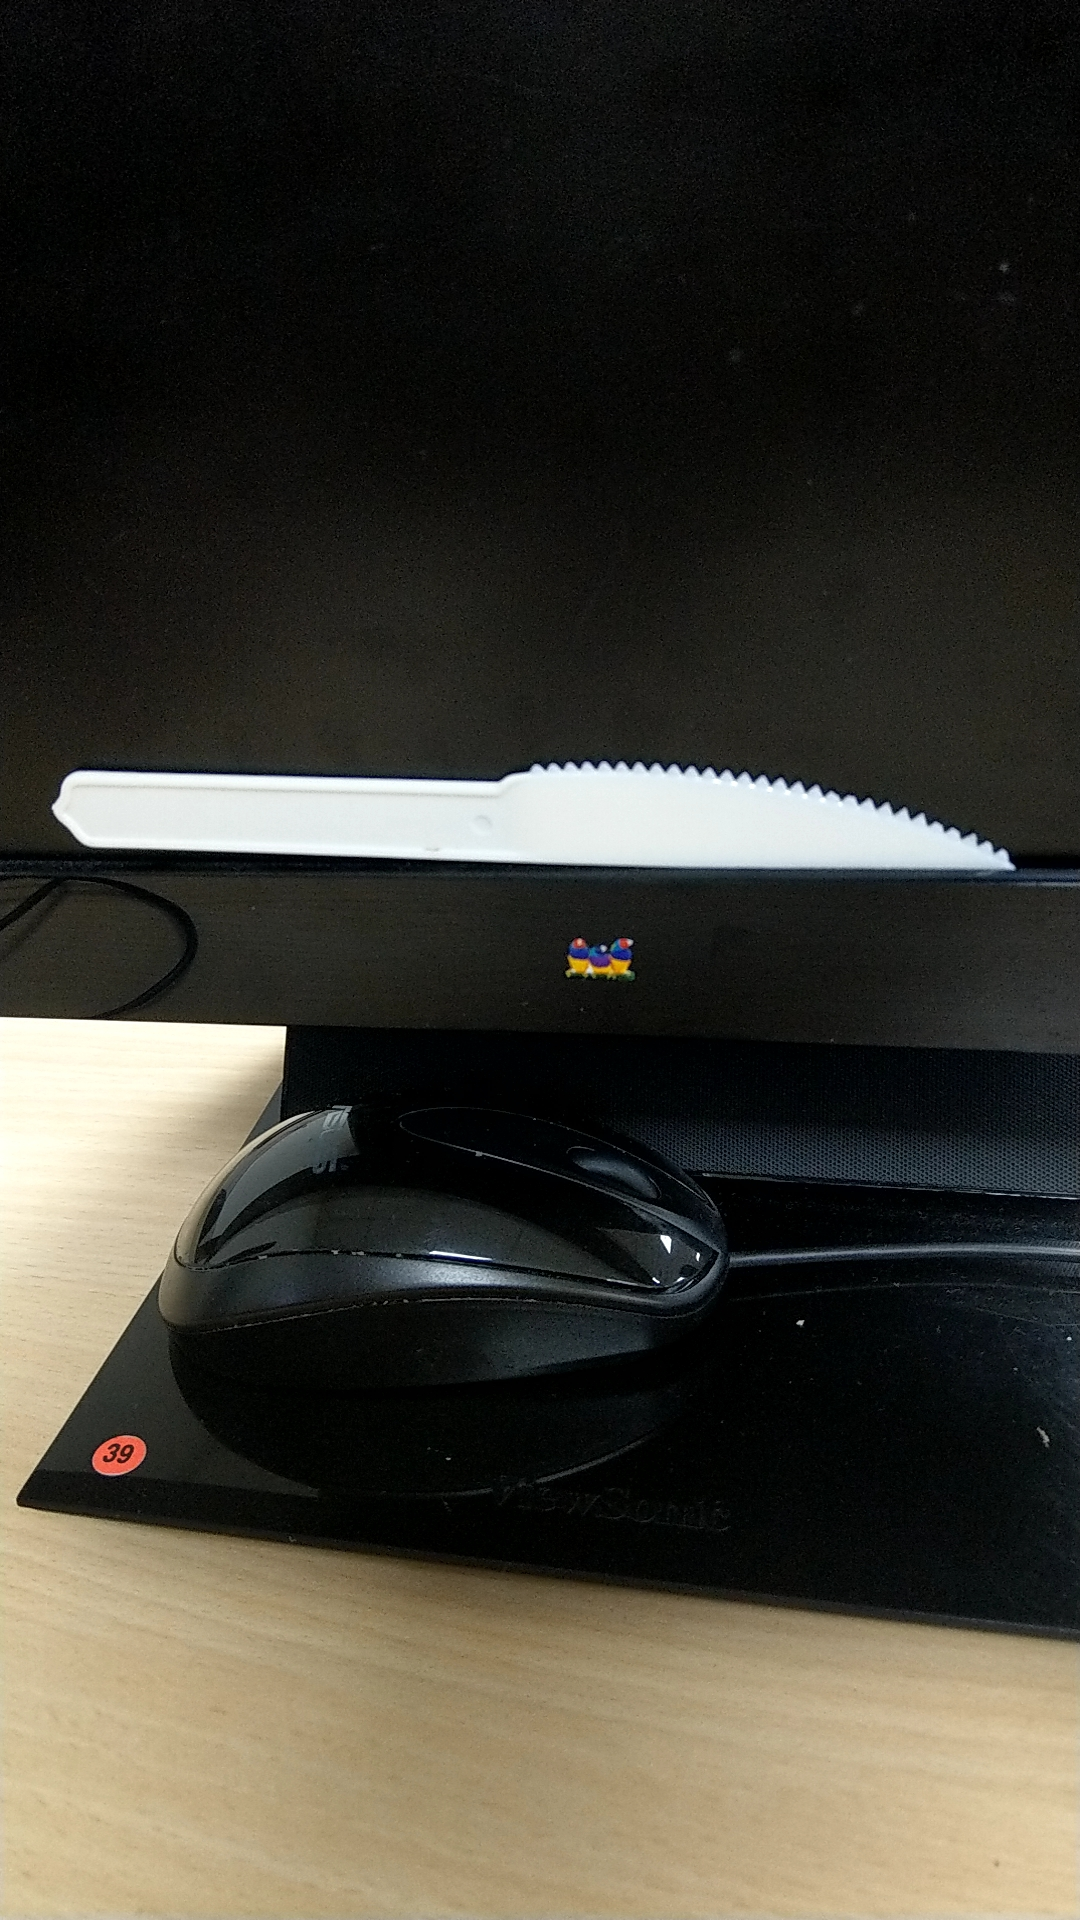knife: (34, 742, 1021, 911)
